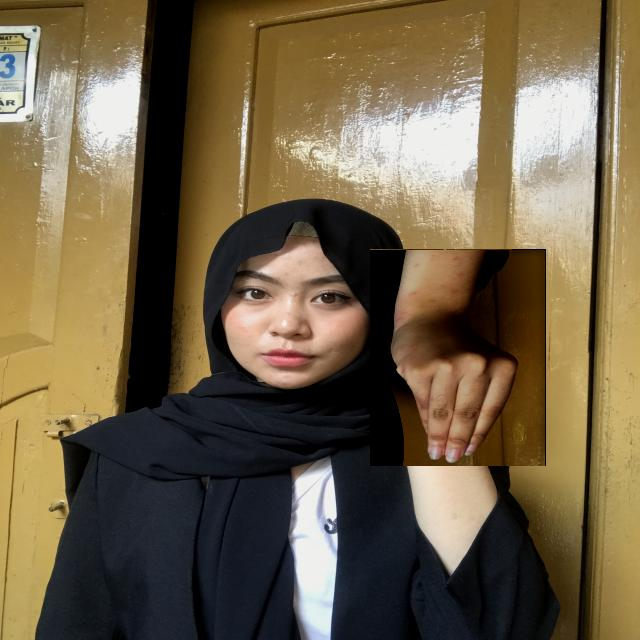kapan: (370, 249, 546, 466)
